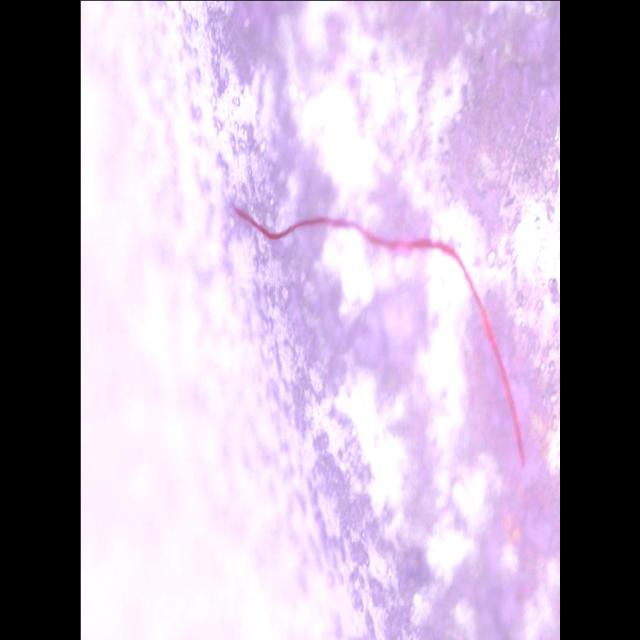Fibre: (230, 199, 526, 469)
